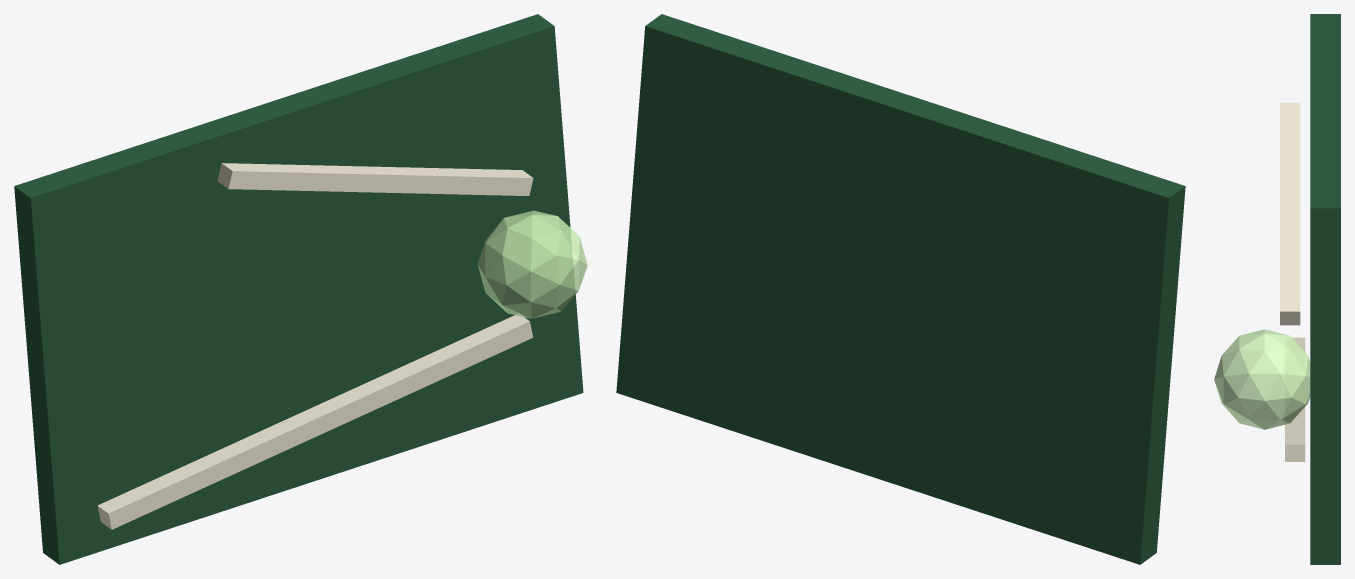
Rendered from 02_world_prop_polish.glb.
3 renders of one model, left to right at view 1: azimuth 30°, elevation 25°; view 2: azimuth 150°, elevation 25°; view 3: azimuth 270°, elevation 25°, orthographic. The views are drawn at different scales.
Parts seen in each view (by area): view 1: object_overlay_plate, edge_wear_a, glow_socket, edge_wear_b; view 2: object_overlay_plate; view 3: object_overlay_plate, glow_socket, edge_wear_b, edge_wear_a.
Boxes of the visible parts, x1=… form: object_overlay_plate: x1=14, y1=14, x2=583, y2=564; edge_wear_a: x1=97, y1=314, x2=533, y2=529; glow_socket: x1=477, y1=210, x2=587, y2=318; edge_wear_b: x1=217, y1=163, x2=533, y2=195; object_overlay_plate: x1=616, y1=14, x2=1185, y2=564; object_overlay_plate: x1=1310, y1=14, x2=1340, y2=564; glow_socket: x1=1214, y1=329, x2=1310, y2=429; edge_wear_b: x1=1280, y1=102, x2=1300, y2=325; edge_wear_a: x1=1285, y1=337, x2=1305, y2=461.
Size of the model in its own units: 1.16 by 0.8361 by 0.25.
